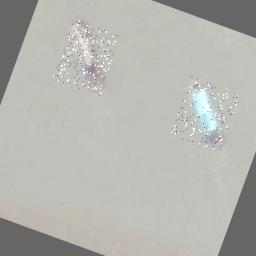boat: (170, 76, 240, 152), (52, 20, 122, 96)
